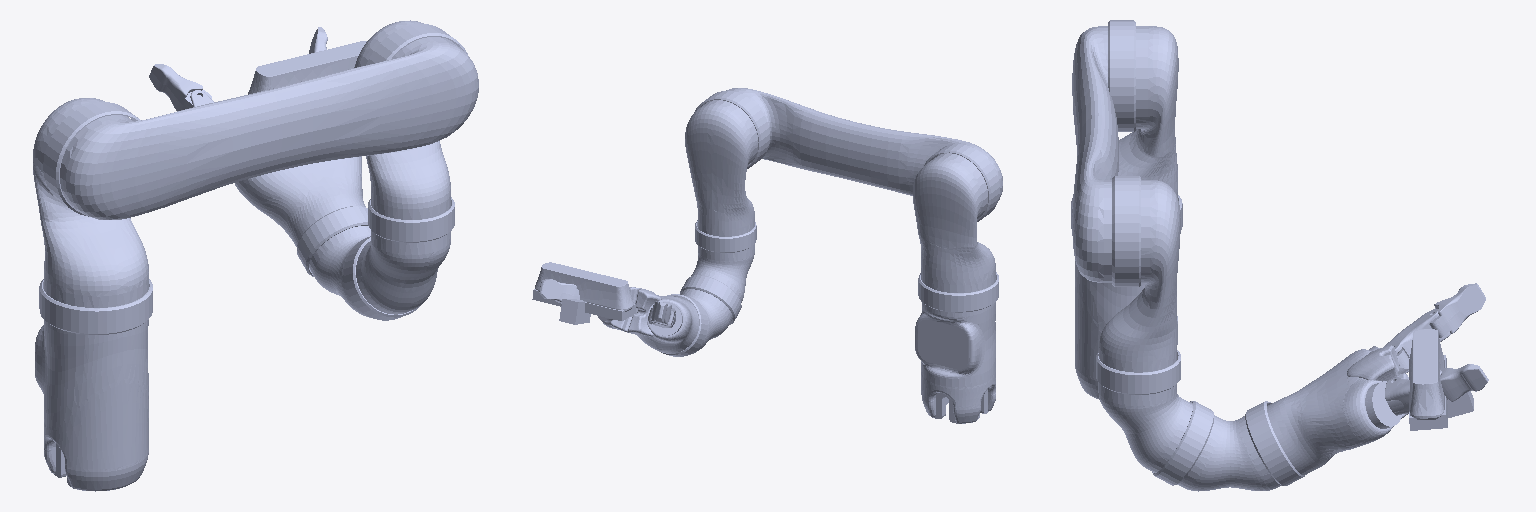
URDF robot description (ADA):
<?xml version="1.0" ?>
<!-- =================================================================================== -->
<!-- |    This document was autogenerated by xacro from standalone_mico.xacro          | -->
<!-- |    EDITING THIS FILE BY HAND IS NOT RECOMMENDED                                 | -->
<!-- =================================================================================== -->
<robot name="ADA" xmlns:body="http://playerstage.sourceforge.net/gazebo/xmlschema/#body" xmlns:controller="http://playerstage.sourceforge.net/gazebo/xmlschema/#controller" xmlns:gazebo="http://playerstage.sourceforge.net/gazebo/xmlschema/#gz" xmlns:geom="http://playerstage.sourceforge.net/gazebo/xmlschema/#geom" xmlns:interface="http://playerstage.sourceforge.net/gazebo/xmlschema/#interface" xmlns:joint="http://playerstage.sourceforge.net/gazebo/xmlschema/#joint" xmlns:model="http://playerstage.sourceforge.net/gazebo/xmlschema/#model" xmlns:physics="http://playerstage.sourceforge.net/gazebo/xmlschema/#physics" xmlns:renderable="http://playerstage.sourceforge.net/gazebo/xmlschema/#renderable" xmlns:rendering="http://playerstage.sourceforge.net/gazebo/xmlschema/#rendering" xmlns:sensor="http://playerstage.sourceforge.net/gazebo/xmlschema/#sensor" xmlns:xacro="http://ros.org/wiki/xacro" xmlns:xi="http://www.w3.org/2001/XInclude">
  <!-- Base link with continuous joint at the output -->
  <!-- Suggested parameters: mico link_base link_1 joint_1 -->
  <!-- Shoulder link with revolute joint at the output -->
  <!-- Suggested parameters: mico link_1 link_2 joint_2 -->
  <!-- Upper arm link with revolute joint at the output -->
  <!-- Suggested parameters: mico link_2 link_3 joint_3 -->
  <!-- Lower arm link with revolute joint at the output -->
  <!-- Suggested parameters: mico link_3 link_4 joint_4 -->
  <!-- Wrist link with continuous joint at the output -->
  <!-- Suggested parameters (for first link): mico link_4 link_5 joint_5 -->
  <!-- Wrist link with continuous joint at the output -->
  <!-- Suggested parameters (for first link): mico link_4 link_5 joint_5 -->
  <!-- Joint-Link pair for a single finger. -->
  <!-- Suggested parameters: jaco2 jaco2_link_hand 1 (origin xyz) (origin rpy) -->
  <!-- Hand link with three finger joints -->
  <!-- Suggested parameters (for first link): mico link_hand -->
  <!-- Base link model -->
  <link name="mico_link_base">
    <inertial>
      <origin rpy="0 0 0" xyz="0 0 0.07625"/>
      <mass value="1.000"/>
      <inertia ixx="2.5e-3" ixy="0.00" ixz="0.00" iyy="2.50e-3" iyz="0.00" izz="1.25e-3"/>
    </inertial>
    <visual>
      <geometry>
        <mesh filename="package://ada_description/meshes/mico_link_base.dae"/>
      </geometry>
      <material name="carbon_fiber">
        <color rgba="0.792156862745098 0.819607843137255 0.933333333333333 1"/>
      </material>
    </visual>
    <collision>
      <geometry>
        <mesh filename="package://ada_description/meshes/mico_link_base.dae"/>
      </geometry>
    </collision>
  </link>
  <!-- First rotation (yaw) -->
  <joint name="mico_joint_1" type="continuous">
    <parent link="mico_link_base"/>
    <child link="mico_link_1"/>
    <axis xyz="0 0 -1"/>
    <limit effort="30" velocity="0.9425"/>
    <origin rpy="3.14159265359 0 3.14159265359" xyz="0 0 0.1535"/>
  </joint>
  <transmission name="mico_joint_1_trans">
    <type>transmission_interface/SimpleTransmission</type>
    <joint name="mico_joint_1">
      <hardwareInterface>PositionJointInterface</hardwareInterface>
      <hardwareInterface>VelocityJointInterface</hardwareInterface>
      <hardwareInterface>EffortJointInterface</hardwareInterface>
    </joint>
    <actuator name="mico_joint_1_motor">
      <mechanicalReduction>1.0</mechanicalReduction>
    </actuator>
  </transmission>
  <!-- Base link model -->
  <link name="mico_link_1">
    <inertial>
      <origin rpy="0 0 0" xyz="-0.0077 0.000 -0.0728"/>
      <mass value="0.825"/>
      <inertia ixx="6.18e-4" ixy="4.54e-8" ixz="9.82e-4" iyy="5.72e-4" iyz="-1.26e-8" izz="2.58e-4"/>
    </inertial>
    <visual>
      <geometry>
        <mesh filename="package://ada_description/meshes/mico_link_1.dae"/>
      </geometry>
      <material name="carbon_fiber">
        <color rgba="0.792156862745098 0.819607843137255 0.933333333333333 1"/>
      </material>
    </visual>
    <collision>
      <geometry>
        <mesh filename="package://ada_description/meshes/mico_link_1.dae"/>
      </geometry>
    </collision>
  </link>
  <!-- Second rotation (shoulder pitch) -->
  <joint name="mico_joint_2" type="revolute">
    <parent link="mico_link_1"/>
    <child link="mico_link_2"/>
    <origin rpy="-1.57079632679 3.14159265359 0" xyz="0 0 -0.1185"/>
    <axis xyz="0 0 1"/>
    <limit effort="30" lower="-3.8451785" upper="0.7035858" velocity="0.9425"/>
  </joint>
  <transmission name="mico_joint_2_trans">
    <type>transmission_interface/SimpleTransmission</type>
    <joint name="mico_joint_2">
      <hardwareInterface>PositionJointInterface</hardwareInterface>
      <hardwareInterface>VelocityJointInterface</hardwareInterface>
      <hardwareInterface>EffortJointInterface</hardwareInterface>
    </joint>
    <actuator name="mico_joint_2_motor">
      <mechanicalReduction>1.0</mechanicalReduction>
    </actuator>
  </transmission>
  <!-- Base link model -->
  <link name="mico_link_2">
    <inertial>
      <origin rpy="0 0 0" xyz="0.1441 0.000 -0.0261"/>
      <mass value="1.215"/>
      <inertia ixx="4.33e-4" ixy="2.31e-7" ixz="-1.61e-6" iyy="7.18e-3" iyz="8.58e-8" izz="7.44e-3"/>
    </inertial>
    <visual>
      <geometry>
        <mesh filename="package://ada_description/meshes/mico_link_2.dae"/>
      </geometry>
      <material name="carbon_fiber">
        <color rgba="0.792156862745098 0.819607843137255 0.933333333333333 1"/>
      </material>
    </visual>
    <collision>
      <geometry>
        <mesh filename="package://ada_description/meshes/mico_link_2.dae"/>
      </geometry>
    </collision>
  </link>
  <joint name="mico_joint_3" type="revolute">
    <parent link="mico_link_2"/>
    <child link="mico_link_3"/>
    <origin rpy="3.14159265359 0 1.57079632679" xyz="0.29 0 0"/>
    <axis xyz="0 0 -1"/>
    <limit effort="30" lower="-4.104090" upper="0.95768524" velocity="0.9425"/>
  </joint>
  <transmission name="mico_joint_3_trans">
    <type>transmission_interface/SimpleTransmission</type>
    <joint name="mico_joint_3">
      <hardwareInterface>PositionJointInterface</hardwareInterface>
      <hardwareInterface>VelocityJointInterface</hardwareInterface>
      <hardwareInterface>EffortJointInterface</hardwareInterface>
    </joint>
    <actuator name="mico_joint_3_motor">
      <mechanicalReduction>1.0</mechanicalReduction>
    </actuator>
  </transmission>
  <!-- Base link model -->
  <link name="mico_link_3">
    <inertial>
      <origin rpy="0 0 0" xyz="0.0396 0.0000 -0.0215"/>
      <mass value="0.775"/>
      <inertia ixx="2.28e-4" ixy="-5.09e-8" ixz="-3.87e-5" iyy="3.88e-4" iyz="6.63e-8" izz="4.42e-4"/>
    </inertial>
    <visual>
      <geometry>
        <mesh filename="package://ada_description/meshes/mico_link_3.dae"/>
      </geometry>
      <material name="carbon_fiber">
        <color rgba="0.792156862745098 0.819607843137255 0.933333333333333 1"/>
      </material>
    </visual>
    <collision>
      <geometry>
        <mesh filename="package://ada_description/meshes/mico_link_3.dae"/>
      </geometry>
    </collision>
  </link>
  <joint name="mico_joint_4" type="continuous">
    <parent link="mico_link_3"/>
    <child link="mico_link_4"/>
    <origin rpy="3.14159265359 1.57079632679 0" xyz="0.123 0 -0.00845"/>
    <axis xyz="0 0 -1"/>
    <limit effort="30" velocity="1.885"/>
  </joint>
  <transmission name="mico_joint_4_trans">
    <type>transmission_interface/SimpleTransmission</type>
    <joint name="mico_joint_4">
      <hardwareInterface>PositionJointInterface</hardwareInterface>
      <hardwareInterface>VelocityJointInterface</hardwareInterface>
      <hardwareInterface>EffortJointInterface</hardwareInterface>
    </joint>
    <actuator name="mico_joint_4_motor">
      <mechanicalReduction>1.0</mechanicalReduction>
    </actuator>
  </transmission>
  <!-- Base link model -->
  <link name="mico_link_4">
    <inertial>
      <origin rpy="0 0 0" xyz="0.0083 0.0000 -0.0378"/>
      <mass value="0.415"/>
      <inertia ixx="5.45e-5" ixy="3.27e-8" ixz="-1.77e-8" iyy="5.53e-5" iyz="-5.56e-6" izz="4.87e-5"/>
    </inertial>
    <visual>
      <geometry>
        <mesh filename="package://ada_description/meshes/mico_link_4.dae"/>
      </geometry>
      <material name="carbon_fiber">
        <color rgba="0.792156862745098 0.819607843137255 0.933333333333333 1"/>
      </material>
    </visual>
    <collision>
      <geometry>
        <mesh filename="package://ada_description/meshes/mico_link_4.dae"/>
      </geometry>
    </collision>
  </link>
  <joint name="mico_joint_5" type="continuous">
    <parent link="mico_link_4"/>
    <child link="mico_link_5"/>
    <origin rpy="0 -1.0471975512 0" xyz="0.037 0 -0.06408"/>
    <axis xyz="0 0 -1"/>
    <limit effort="30" velocity="1.885"/>
  </joint>
  <transmission name="mico_joint_5_trans">
    <type>transmission_interface/SimpleTransmission</type>
    <joint name="mico_joint_5">
      <hardwareInterface>PositionJointInterface</hardwareInterface>
      <hardwareInterface>VelocityJointInterface</hardwareInterface>
      <hardwareInterface>EffortJointInterface</hardwareInterface>
    </joint>
    <actuator name="mico_joint_5_motor">
      <mechanicalReduction>1.0</mechanicalReduction>
    </actuator>
  </transmission>
  <!-- Base link model -->
  <link name="mico_link_5">
    <inertial>
      <origin rpy="0 0 0" xyz="0.0083 0.0000 -0.0378"/>
      <mass value="0.415"/>
      <inertia ixx="5.45e-5" ixy="3.27e-8" ixz="-1.77e-8" iyy="5.53e-5" iyz="-5.56e-6" izz="4.87e-5"/>
    </inertial>
    <visual>
      <geometry>
        <mesh filename="package://ada_description/meshes/mico_link_4.dae"/>
      </geometry>
      <material name="carbon_fiber">
        <color rgba="0.792156862745098 0.819607843137255 0.933333333333333 1"/>
      </material>
    </visual>
    <collision>
      <geometry>
        <mesh filename="package://ada_description/meshes/mico_link_4.dae"/>
      </geometry>
    </collision>
  </link>
  <joint name="mico_joint_6" type="continuous">
    <parent link="mico_link_5"/>
    <child link="mico_link_hand"/>
    <origin rpy="-1.0471975512 0 1.57079632679" xyz="0.037 0 -0.06408"/>
    <axis xyz="0 0 -1"/>
    <limit effort="30" velocity="1.885"/>
  </joint>
  <transmission name="mico_joint_6_trans">
    <type>transmission_interface/SimpleTransmission</type>
    <joint name="mico_joint_6">
      <hardwareInterface>PositionJointInterface</hardwareInterface>
      <hardwareInterface>VelocityJointInterface</hardwareInterface>
      <hardwareInterface>EffortJointInterface</hardwareInterface>
    </joint>
    <actuator name="mico_joint_6_motor">
      <mechanicalReduction>1.0</mechanicalReduction>
    </actuator>
  </transmission>
  <!-- Base link model -->
  <link name="mico_link_hand">
    <inertial>
      <origin rpy="0 0 0" xyz="0.0034 0.0000 -0.0808"/>
      <mass value="0.557"/>
      <inertia ixx="1.51e-6" ixy="-1.90e-10" ixz="-4.87e-9" iyy="1.14e-5" iyz="1.52e-8" izz="1.05e-5"/>
    </inertial>
    <visual>
      <geometry>
        <mesh filename="package://ada_description/meshes/mico_link_hand.dae"/>
        <!-- <mesh filename="package://ada_description/meshes/Hand_Link_camera.STL"/>  -->
      </geometry>
      <material name="carbon_fiber">
        <color rgba="0.792156862745098 0.819607843137255 0.933333333333333 1"/>
      </material>
    </visual>
    <collision>
      <geometry>
        <mesh filename="package://ada_description/meshes/mico_link_hand.dae"/>
        <!-- <mesh filename="package://ada_description/meshes/Hand_Link_camera.STL"/>  -->
      </geometry>
    </collision>
  </link>
  <link
    name="Camera_RGB_Frame">
    <inertial>
      <origin
        xyz="0 0 0"
        rpy="0 0 0" />
      <mass
        value="0.05" />
      <inertia
        ixx="0"
        ixy="0"
        ixz="0"
        iyy="0"
        iyz="0"
        izz="0" />
    </inertial>
    <visual>
      <geometry>
        <mesh filename="package://ada_description/meshes/structureio.dae"/>
        <!-- <mesh filename="package://ada_description/meshes/Hand_Link_camera.STL"/>  -->
      </geometry>
      <material name="carbon_fiber">
        <color rgba="0.792156862745098 0.819607843137255 0.933333333333333 1"/>
      </material>
    </visual>
    <collision>
      <geometry>
        <mesh filename="package://ada_description/meshes/structureio.dae"/>
        <!-- <mesh filename="package://ada_description/meshes/Hand_Link_camera.STL"/>  -->
      </geometry>
    </collision>
  </link>
   <joint
    name="Camera_Joint" type = "fixed">
    <origin
      xyz="-0.047 0.05 -0.090 "
      rpy="-2.92 0.000 0" />
    <parent
      link="mico_link_hand" />
    <child
      link="Camera_RGB_Frame" />
  </joint>
  <link
    name="Camera_Collision_Frame">
    <inertial>
      <origin
        xyz="0 0 0"
        rpy="0 0 0" />
      <mass
        value="0.05" />
      <inertia
        ixx="0"
        ixy="0"
        ixz="0"
        iyy="0"
        iyz="0"
        izz="0" />
    </inertial>
  </link>
   <joint
    name="Camera_Collision_Joint" type = "fixed">
    <origin
      xyz="0 0 0"
      rpy="0 0 0" />
    <parent
      link="mico_link_hand" />
    <child
      link="Camera_Collision_Frame" />
  </joint>
  <link name="mico_link_finger_1">
    <inertial>
      <origin rpy="0 0 0" xyz="0.020 -0.015 0"/>
      <mass value="0.010"/>
      <inertia ixx="5.00e-5" ixy="0" ixz="0" iyy="1.58e-5" iyz="0" izz="1.58e-4"/>
    </inertial>
    <visual>
      <geometry>
        <mesh filename="package://ada_description/meshes/finger_proximal_limb_1.dae"/>
      </geometry>
      <material name="carbon_fiber">
        <color rgba="0.792156862745098 0.819607843137255 0.933333333333333 1"/>
      </material>
    </visual>
    <collision>
      <geometry>
        <mesh filename="package://ada_description/meshes/finger_proximal_limb_1.dae"/>
      </geometry>
    </collision>
  </link>
  <joint name="mico_joint_finger_1" type="revolute">
    <parent link="mico_link_hand"/>
    <child link="mico_link_finger_1"/>
    <axis xyz="0 0 1"/>
    <origin rpy="1.57079632679 1.57079632679 0" xyz="-0.03095 -0.0025 -0.116"/>
    <limit effort="30" lower="0" upper="1.35" velocity="0.785398163"/>
  </joint>
  <transmission name="mico_joint_finger_1_trans">
    <type>transmission_interface/SimpleTransmission</type>
    <joint name="mico_joint_finger_1">
      <hardwareInterface>PositionJointInterface</hardwareInterface>
      <hardwareInterface>VelocityJointInterface</hardwareInterface>
      <hardwareInterface>EffortJointInterface</hardwareInterface>
    </joint>
    <actuator name="mico_joint_finger_1_motor">
      <mechanicalReduction>1.0</mechanicalReduction>
    </actuator>
  </transmission>
  <link name="mico_link_finger_tip_1">
    <inertial>
      <origin rpy="0 0 0" xyz="0.020 -0.015 0"/>
      <mass value="0.010"/>
      <inertia ixx="5.00e-7" ixy="0" ixz="0" iyy="1.58e-6" iyz="0" izz="1.58e-6"/>
    </inertial>
    <visual>
      <geometry>
        <mesh filename="package://ada_description/meshes/finger_distal_limb_1.dae"/>
      </geometry>
      <material name="carbon_fiber">
        <color rgba="0.792156862745098 0.819607843137255 0.933333333333333 1"/>
      </material>
    </visual>
    <collision>
      <geometry>
        <mesh filename="package://ada_description/meshes/finger_distal_limb_1.dae"/>
      </geometry>
    </collision>
  </link>
  <!-- The tip joint is fixed for now, but the revolute version is
             available under it -->
  <joint name="mico_joint_finger_tip_1" type="fixed">
    <parent link="mico_link_finger_1"/>
    <child link="mico_link_finger_tip_1"/>
    <axis xyz="0 0 1"/>
    <origin rpy="0 0 0" xyz="0.035 -0.0295 -0.0025"/>
  </joint>
  <!--
        <joint name="${prefix}_joint_finger_tip_${suffix}" type="revolute">
            <parent link="${prefix}_link_finger_${suffix}"/>
            <child link="${prefix}_link_finger_tip_${suffix}"/>
            <axis xyz="0 0 1"/>
            <origin xyz="0.035 -0.0295 -0.0025" rpy="0 0 0"/>
            <limit lower="0" upper="${J_PI/180*40}" effort="30" velocity="5"/>
         </joint>
         <transmission name="${prefix}_joint_finger_tip_${suffix}_trans">
            <type>transmission_interface/SimpleTransmission</type>
            <joint name="${prefix}_joint_finger_tip_${suffix}">
                <hardwareInterface>EffortJointInterface</hardwareInterface>
            </joint>
            <actuator name="${prefix}_joint_finger_tip_${suffix}_motor">
                <mechanicalReduction>1.0</mechanicalReduction>
            </actuator>
        </transmission>
        -->
  <link name="mico_link_finger_2">
    <inertial>
      <origin rpy="0 0 0" xyz="0.020 -0.015 0"/>
      <mass value="0.010"/>
      <inertia ixx="5.00e-5" ixy="0" ixz="0" iyy="1.58e-5" iyz="0" izz="1.58e-4"/>
    </inertial>
    <visual>
      <geometry>
        <mesh filename="package://ada_description/meshes/finger_proximal_limb_1.dae"/>
      </geometry>
      <material name="carbon_fiber">
        <color rgba="0.792156862745098 0.819607843137255 0.933333333333333 1"/>
      </material>
    </visual>
    <collision>
      <geometry>
        <mesh filename="package://ada_description/meshes/finger_proximal_limb_1.dae"/>
      </geometry>
    </collision>
  </link>
  <joint name="mico_joint_finger_2" type="revolute">
    <parent link="mico_link_hand"/>
    <child link="mico_link_finger_2"/>
    <axis xyz="0 0 1"/>
    <origin rpy="-1.57079632679 1.57079632679 0" xyz="0.03095 -0.0025 -0.116"/>
    <limit effort="30" lower="0" upper="1.35" velocity="0.785398163"/>
  </joint>
  <transmission name="mico_joint_finger_2_trans">
    <type>transmission_interface/SimpleTransmission</type>
    <joint name="mico_joint_finger_2">
      <hardwareInterface>PositionJointInterface</hardwareInterface>
      <hardwareInterface>VelocityJointInterface</hardwareInterface>
      <hardwareInterface>EffortJointInterface</hardwareInterface>
    </joint>
    <actuator name="mico_joint_finger_2_motor">
      <mechanicalReduction>1.0</mechanicalReduction>
    </actuator>
  </transmission>
  <link name="mico_link_finger_tip_2">
    <inertial>
      <origin rpy="0 0 0" xyz="0.020 -0.015 0"/>
      <mass value="0.010"/>
      <inertia ixx="5.00e-7" ixy="0" ixz="0" iyy="1.58e-6" iyz="0" izz="1.58e-6"/>
    </inertial>
    <visual>
      <geometry>
        <mesh filename="package://ada_description/meshes/finger_distal_limb_1.dae"/>
      </geometry>
      <material name="carbon_fiber">
        <color rgba="0.792156862745098 0.819607843137255 0.933333333333333 1"/>
      </material>
    </visual>
    <collision>
      <geometry>
        <mesh filename="package://ada_description/meshes/finger_distal_limb_1.dae"/>
      </geometry>
    </collision>
  </link>
  <!-- The tip joint is fixed for now, but the revolute version is
             available under it -->
  <joint name="mico_joint_finger_tip_2" type="fixed">
    <parent link="mico_link_finger_2"/>
    <child link="mico_link_finger_tip_2"/>
    <axis xyz="0 0 1"/>
    <origin rpy="0 0 0" xyz="0.035 -0.0295 -0.0025"/>
  </joint>
  <!--
        <joint name="${prefix}_joint_finger_tip_${suffix}" type="revolute">
            <parent link="${prefix}_link_finger_${suffix}"/>
            <child link="${prefix}_link_finger_tip_${suffix}"/>
            <axis xyz="0 0 1"/>
            <origin xyz="0.035 -0.0295 -0.0025" rpy="0 0 0"/>
            <limit lower="0" upper="${J_PI/180*40}" effort="30" velocity="5"/>
         </joint>
         <transmission name="${prefix}_joint_finger_tip_${suffix}_trans">
            <type>transmission_interface/SimpleTransmission</type>
            <joint name="${prefix}_joint_finger_tip_${suffix}">
                <hardwareInterface>EffortJointInterface</hardwareInterface>
            </joint>
            <actuator name="${prefix}_joint_finger_tip_${suffix}_motor">
                <mechanicalReduction>1.0</mechanicalReduction>
            </actuator>
        </transmission>
        -->
  <!-- End effector offset -->
  <joint name="mico_link_hand_to_end_effector" type="fixed">
    <parent link="mico_link_hand"/>
    <child link="mico_end_effector"/>
    <origin rpy="0 3.14159265359 0" xyz="0 0 -0.1687"/>
  </joint>
  <link name="mico_end_effector"/>
  <!-- Used to fix the model to the ground in Gazebo. -->
  <link name="world"/>
  <joint name="world_2_base_fixed" type="fixed">
    <parent link="world"/>
    <child link="mico_link_base"/>
    <origin rpy="0 0 0" xyz="0 0 0"/>
  </joint>
  <gazebo reference="mico_link_base">
    <material>Gazebo/Black</material>
    <selfCollide>false</selfCollide>
    <gravity>false</gravity>
  </gazebo>
  <gazebo>
    <plugin filename="libgazebo_ros_control.so" name="gazebo_ros_control"/>
  </gazebo>
</robot>

--- Render facts (derived) ---
3 views of the same robot in one strip: view 1: azimuth 30°, elevation 25°; view 2: azimuth 150°, elevation 25°; view 3: azimuth 270°, elevation 25° (orthographic).
Robot: ADA — 15 links, 14 joints (4 revolute, 4 continuous, 6 fixed); root link world; default pose: all joints at 0.
Visible links, largest first — view 1: mico_link_2, mico_link_base, mico_link_1, mico_link_3, mico_link_4, mico_link_hand, mico_link_5, Camera_RGB_Frame, mico_link_finger_tip_2; view 2: mico_link_2, mico_link_1, mico_link_base, mico_link_3, Camera_RGB_Frame, mico_link_hand, mico_link_4, mico_link_5, mico_link_finger_tip_1; view 3: mico_link_2, mico_link_3, mico_link_hand, mico_link_1, mico_link_4, mico_link_5, mico_link_base, Camera_RGB_Frame, mico_link_finger_tip_2, mico_link_finger_tip_1, mico_link_finger_2, mico_link_finger_1.
Boxes of the visible links, box(x1,y1,x2,y2) form: mico_link_2: box(60, 24, 478, 219); mico_link_base: box(35, 279, 152, 491); mico_link_1: box(33, 98, 148, 307); mico_link_3: box(354, 20, 454, 242); mico_link_4: box(344, 231, 450, 320); mico_link_hand: box(235, 156, 365, 246); mico_link_5: box(297, 206, 370, 317); Camera_RGB_Frame: box(248, 41, 366, 94); mico_link_finger_tip_2: box(149, 64, 211, 110); mico_link_2: box(695, 88, 1002, 200); mico_link_1: box(913, 144, 999, 292); mico_link_base: box(915, 272, 998, 423); mico_link_3: box(685, 100, 758, 252); Camera_RGB_Frame: box(532, 262, 635, 324); mico_link_hand: box(598, 287, 698, 353); mico_link_4: box(680, 244, 754, 324); mico_link_5: box(661, 289, 732, 356); mico_link_finger_tip_1: box(539, 279, 579, 303); mico_link_2: box(1072, 26, 1140, 286); mico_link_3: box(1096, 180, 1180, 394); mico_link_hand: box(1267, 345, 1408, 475); mico_link_1: box(1108, 20, 1178, 197); mico_link_4: box(1098, 382, 1213, 485); mico_link_5: box(1177, 401, 1304, 491); mico_link_base: box(1071, 195, 1182, 399); Camera_RGB_Frame: box(1409, 329, 1473, 430); mico_link_finger_tip_2: box(1429, 283, 1485, 337); mico_link_finger_tip_1: box(1440, 364, 1488, 401); mico_link_finger_2: box(1384, 309, 1450, 373); mico_link_finger_1: box(1385, 370, 1441, 415).
Bounding box of the posed robot: 0.4414 × 0.3339 × 0.3179 m (x, y, z).
12 mesh visuals loaded from 9 distinct referenced files (9 Collada DAE).
